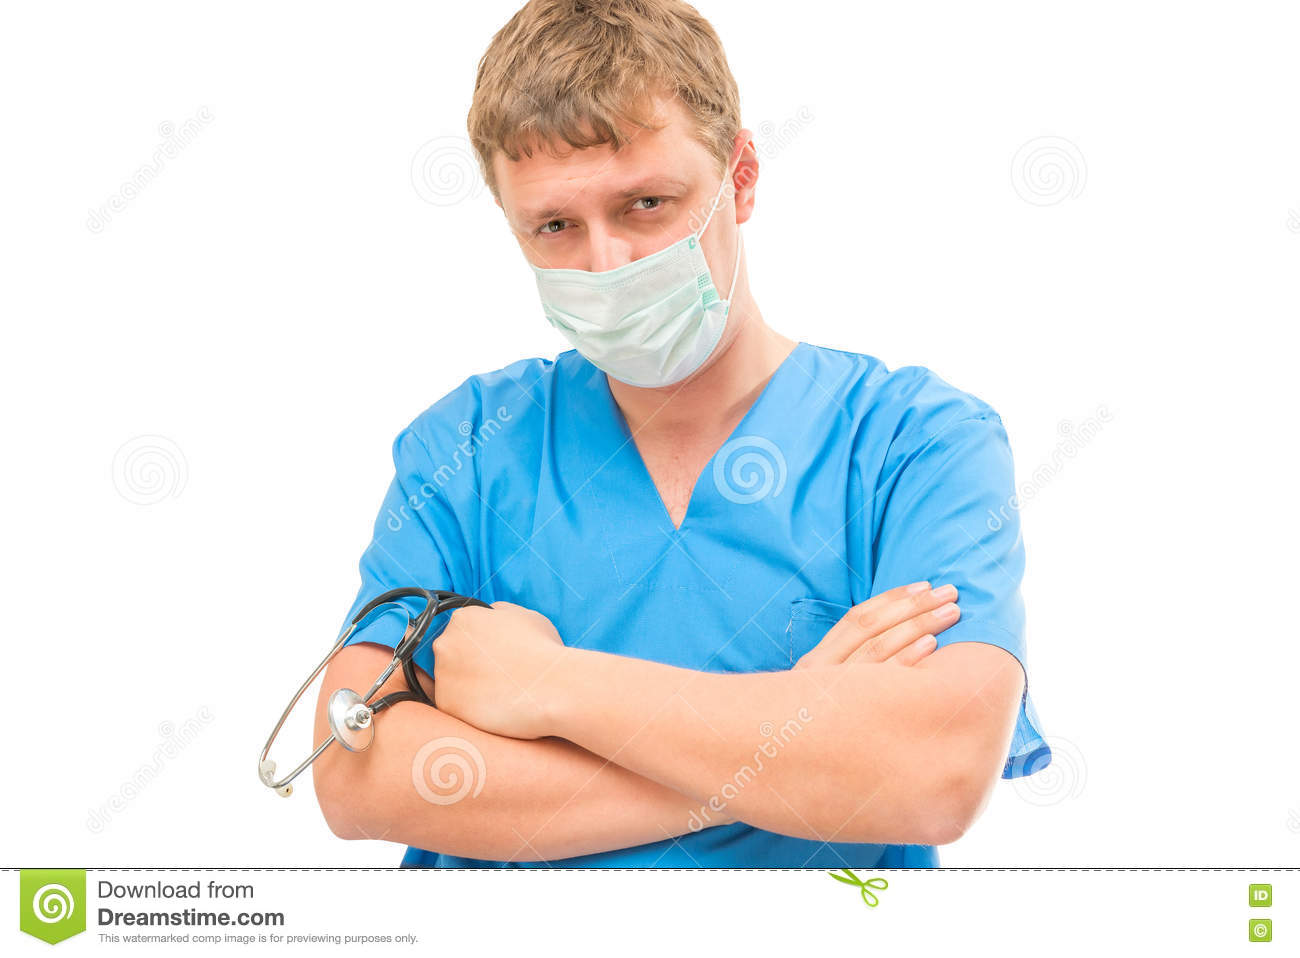mask: (518, 238, 750, 405)
